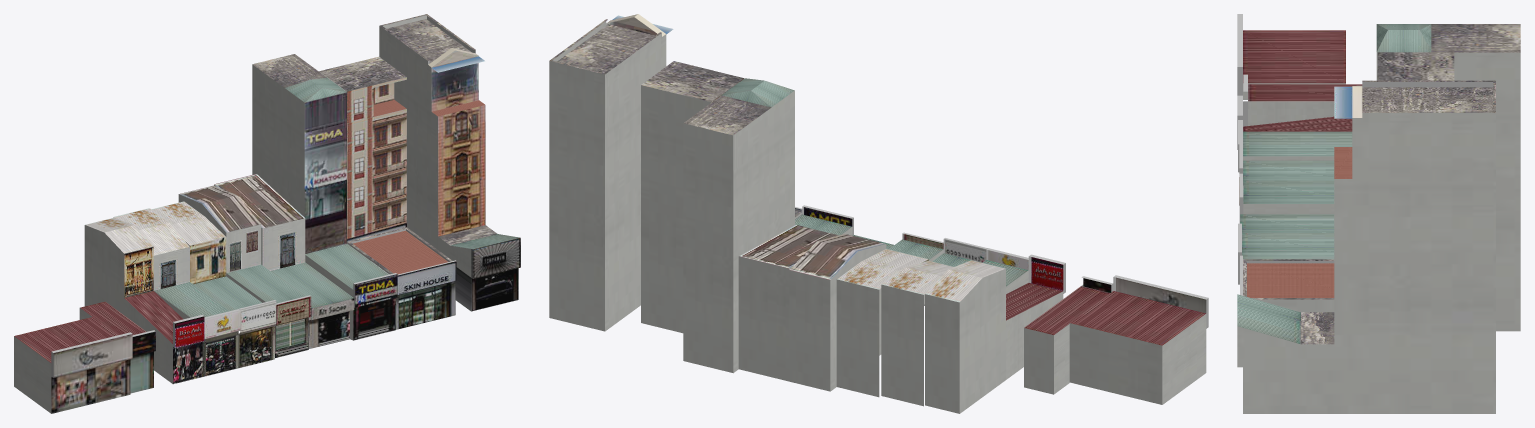
3 views of the same model, side by side, from view 1: azimuth 30°, elevation 25°; view 2: azimuth 150°, elevation 25°; view 3: azimuth 270°, elevation 25° (orthographic). The views are drawn at different scales.
Visible parts, largest first — view 1: 5c511d947e51498688152d1b.001; view 2: 5c511d947e51498688152d1b.001; view 3: 5c511d947e51498688152d1b.001.
Part boxes in pixels (left/top/right/bottom): 5c511d947e51498688152d1b.001: left=14, top=14, right=520, bottom=413; 5c511d947e51498688152d1b.001: left=549, top=14, right=1208, bottom=413; 5c511d947e51498688152d1b.001: left=1237, top=14, right=1520, bottom=413.
Bounding box in the file's own units: 38.68 × 17.95 × 14.76.
Materials: 1 (1 with a texture image).
